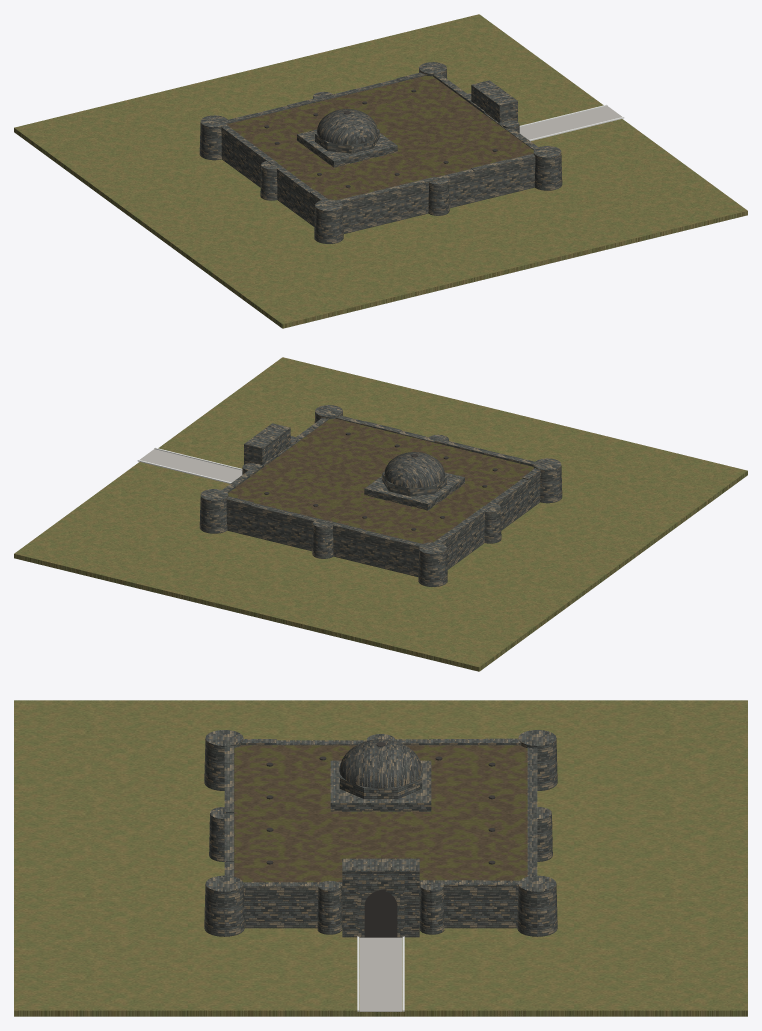
Rendered from tash-rabat.glb.
The picture shows the model from 3 angles, top to bottom: view 1: azimuth 30°, elevation 25°; view 2: azimuth 150°, elevation 25°; view 3: azimuth 270°, elevation 25°; orthographic projection. The views are drawn at different scales.
Parts seen in each view (by area): view 1: Земля, Кровля, Корпус, Купол, Дорожка, Основание купола, Портал, Угловая башня, Угловая башня.002, Угловая башня.001, Полубашня.001, Полубашня.002 (+1 smaller); view 2: Земля, Кровля, Корпус, Купол, Дорожка, Основание купола, Портал, Угловая башня.001, Угловая башня.003, Угловая башня, Полубашня, Полубашня.002 (+1 smaller); view 3: Земля, Кровля, Корпус, Портал, Дорожка, Купол, Основание купола, Угловая башня.002, Угловая башня.003, Рамка арки, Проём, Угловая башня.001 (+6 smaller).
Part boxes in pixels (x1,y1,x2,y2): Земля: (14,14,747,328); Кровля: (228,75,533,200); Корпус: (221,130,535,233); Купол: (317,109,377,144); Дорожка: (519,106,621,139); Основание купола: (297,129,397,167); Портал: (471,80,517,123); Угловая башня: (314,199,343,243); Угловая башня.002: (533,146,562,190); Угловая башня.001: (199,115,228,160); Полубашня.001: (428,178,449,215); Полубашня.002: (260,161,277,200); Земля: (14,357,747,671); Кровля: (228,418,534,543); Корпус: (226,473,540,576); Купол: (384,452,444,487); Дорожка: (140,449,242,482); Основание купола: (364,472,464,510); Портал: (244,423,290,464); Угловая башня.001: (418,542,447,586); Угловая башня.003: (199,489,228,533); Угловая башня: (533,458,562,503); Полубашня: (312,521,333,558); Полубашня.002: (484,504,501,543); Земля: (14,700,747,1016); Кровля: (234,745,527,882); Корпус: (243,888,518,928); Портал: (342,858,419,937); Дорожка: (359,937,402,1011); Купол: (339,739,422,788); Основание купола: (330,760,431,811); Угловая башня.002: (204,875,244,936); Угловая башня.003: (517,875,557,936); Рамка арки: (357,877,404,937); Проём: (364,889,397,937); Угловая башня.001: (518,730,557,790).
Bounding box in the file's own units: 76.3 × 10.85 × 76.
Materials: 7 (4 with a texture image).
